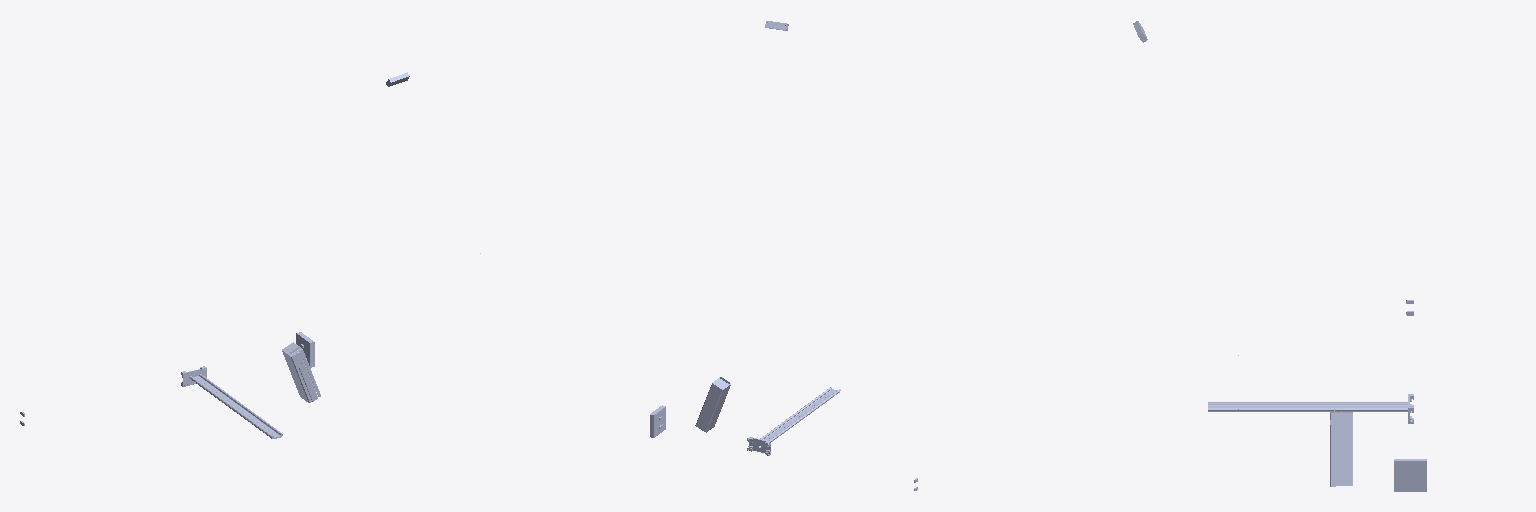
--- Facts derived from the render (not from the file) ---
3 views of the same robot in one strip: view 1: azimuth 30°, elevation 25°; view 2: azimuth 150°, elevation 25°; view 3: azimuth 270°, elevation 25° (orthographic).
Robot: robo_description — 21 links, 20 joints (2 revolute, 2 prismatic, 16 fixed); root link base_link; default pose: all joints at 0 but 1 set to mid-range because 0 is outside their limits (joint5 = 0.4665).
Visible links, largest first — view 1: link2, link5; view 2: link2, link5; view 3: link2, link5, base_link.
Link boxes in pixels (x1,y1,x2,y2): link2: (181, 366, 282, 438); link5: (282, 342, 320, 402); link2: (747, 387, 840, 455); link5: (695, 377, 730, 432); link2: (1208, 394, 1413, 423); link5: (1330, 409, 1352, 486); base_link: (1394, 300, 1426, 491).
Size in the robot's own frame: 1.65 by 0.8835 by 1.54 metres.
4 mesh visuals loaded from 6 distinct referenced files (4 binary STL); not drawn: 2 (reference not matched to a file when rendering).

URDF robot description (robo_description):
<?xml version="1.0" encoding="utf-8"?>
<!-- 25AUG2023 Changed the minimum limit of lJoint5 to 0.247 and max to 0.686 -->
<!-- This URDF was automatically created by SolidWorks to URDF Exporter! Originally created by Stephen Brawner ([email redacted]) 
     Commit Version: 1.6.0-4-g7f85cfe  Build Version: 1.6.7995.38578
     For more information, please see http://wiki.ros.org/sw_urdf_exporter -->
<robot
  name="robo_description">
  <link
    name="base_link">
    <inertial>
      <origin
        xyz="-5.13826234849775E-17 -1.63904738952765E-17 0.339473684210526"
        rpy="0 0 0" />
      <mass
        value="19" />
      <inertia
        ixx="2.34956140350877"
        ixy="1.11311423041845E-17"
        ixz="3.69215798456927E-16"
        iyy="2.34956140350877"
        iyz="-7.44985984223617E-17"
        izz="0.151666666666667" />
    </inertial>
    <visual>
      <origin
        xyz="0 0 0"
        rpy="0 0 0" />
      <geometry>
        <mesh
          filename="package://robo_description/meshes/base_link.STL" />
      </geometry>
      <material
        name="">
        <color
          rgba="0.792156862745098 0.819607843137255 0.933333333333333 1" />
      </material>
    </visual>
    <collision>
      <origin
        xyz="0 0 0"
        rpy="0 0 0" />
      <geometry>
        <mesh
          filename="package://robo_description/meshes/base_link.STL" />
      </geometry>
    </collision>
  </link>
  <link
    name="link2">
    <inertial>
      <origin
        xyz="-0.001261 -0.2858 0.14572"
        rpy="0 0 0" />
      <mass
        value="3.13280329013611" />
      <inertia
        ixx="0.0169430024052603"
        ixy="-0.00280446630124331"
        ixz="0.0223183329111622"
        iyy="0.162057682822749"
        iyz="0.000505061238040558"
        izz="0.161640952999751" />
    </inertial>
    <visual>
      <origin
        xyz="0 0 -1"
        rpy="0 0 0" />
      <geometry>
        <mesh
          filename="package://robo_description/meshes/link2.STL" />
      </geometry>
      <material
        name="">
        <color
          rgba="0.792156862745098 0.819607843137255 0.933333333333333 1" />
      </material>
    </visual>
    <collision>
      <origin
        xyz="0 0 0"
        rpy="0 0 0" />
      <geometry>
        <mesh
          filename="package://robo_description/meshes/link2.STL" />
      </geometry>
    </collision>
  </link>
  <joint
    name="joint2"
    type="prismatic">
    <origin
      xyz="0.0 0 1"
      rpy="0 0 0" />
    <parent
      link="base_link" />
    <child
      link="link2" />
    <axis
      xyz="0 0 1" />
    <limit
      lower="0"
      upper="1"
      effort="0"
      velocity="0" />
  </joint>
  <link
    name="link4">
    <inertial>
      <origin
        xyz="-0.000438554587764983 0.0620490502692163 -0.172885898172371"
        rpy="0 0 0" />
      <mass
        value="0.162146723185788" />
      <inertia
        ixx="0.00336616371871891"
        ixy="1.46811284877534E-06"
        ixz="-3.57096843523024E-06"
        iyy="0.00312866852492012"
        iyz="0.00048231220150353"
        izz="0.000338308018448651" />
    </inertial>
    <visual>
      <origin
        xyz="-0.4665 0 -0.790"
        rpy="0 0 0" />
      <geometry>
        <mesh
          filename="package://robo_description/meshes/link4.STL" />
      </geometry>
      <material
        name="">
        <color
          rgba="0.792156862745098 0.819607843137255 0.933333333333333 1" />
      </material>
    </visual>
    <collision>
      <origin
        xyz="0 0 0"
        rpy="0 0 0" />
      <geometry>
        <mesh
          filename="package://robo_description/meshes/link4.STL" />
      </geometry>
    </collision>
  </link>
  <joint
    name="joint4"
    type="revolute">
    <origin
      xyz="0.46904 0 -0.21"
      rpy="0 0 0" />
    <parent
      link="link2" />
    <child
      link="link4" />
    <axis
      xyz="0 0 1" />
    <limit
      lower="-2.9671"
      upper="2.9671"
      effort="0"
      velocity="0" />
  </joint>
  <link
    name="link3">
    <inertial>
      <origin
        xyz="-0.0832189655707039 -0.0894795892974461 -0.00179630042130147"
        rpy="0 0 0" />
      <mass
        value="1.71811977068641" />
      <inertia
        ixx="0.00948440583507882"
        ixy="-0.00159429497921182"
        ixz="0.00308193362516688"
        iyy="0.035537875179704"
        iyz="0.000648421421055908"
        izz="0.0305779645247813" />
    </inertial>
    <visual>
      <origin
        xyz="-0.468545 -0.078 -0.43528"
        rpy="0 0 0" />
      <geometry>
        <mesh
          filename="package://robo_description/meshes/link3.STL" />
      </geometry>
      <material
        name="">
        <color
          rgba="0.792156862745098 0.819607843137255 0.933333333333333 1" />
      </material>
    </visual>
    <collision>
      <origin
        xyz="0 0 0"
        rpy="0 0 0" />
      <geometry>
        <mesh
          filename="package://robo_description/meshes/link3.STL" />
      </geometry>
    </collision>
  </link>
  <joint
    name="joint3"
    type="revolute">
    <origin
      xyz="0.0 0.077824 -0.35472"
      rpy="0 0 0" />
    <parent
      link="link4" />
    <child
      link="link3" />
    <axis
      xyz="0 1 0" />
    <limit
      lower="-1.5708"
      upper="1.5708"
      effort="0"
      velocity="0" />
  </joint>
  <link
    name="yanthra_link">
    <inertial>
      <origin
        xyz="-0.0832189655707036 -0.0114795892974462 -0.00179630042130124"
        rpy="0 0 0" />
      <mass
        value="1.71811977068641" />
      <inertia
        ixx="0.00948440583507882"
        ixy="-0.00159429497921182"
        ixz="0.0030819336251669"
        iyy="0.035537875179704"
        iyz="0.000648421421055907"
        izz="0.0305779645247813" />
    </inertial>
    <visual>
      <origin
        xyz="0 0 0"
        rpy="0 0 0" />
      <geometry>
        <box size="0.001 0.001 0.001"/>
      </geometry>
      <material
        name="">
        <color
          rgba="0.792156862745098 0.819607843137255 0.933333333333333 1" />
      </material>
    </visual>
    <collision>
      <origin
        xyz="0 0 0"
        rpy="0 0 0" />
      <geometry>
        <box size="0.001 0.001 0.001"/>
      </geometry>
    </collision>
  </link>
  <joint
    name="yanthra_joint"
    type="fixed">
    <origin
      xyz="0 -0.078 0"
      rpy="0 0 0" />
    <parent
      link="link3" />
    <child
      link="yanthra_link" />
    <axis
      xyz="0 0 0" />
  </joint>
  <link
    name="link5_origin">
    <inertial>
      <origin
        xyz="-0.00874999999999998 0.0375 -0.00507843424240889"
        rpy="0 0 0" />
      <mass
        value="0.0438088883035136" />
      <inertia
        ixx="3.24913884800222E-05"
        ixy="1.33063310958086E-21"
        ixz="-8.470329472543E-22"
        iyy="3.99574478810853E-06"
        iyz="-3.38875204913906E-21"
        izz="3.07317223657389E-05" />
    </inertial>
    <visual>
      <origin
        xyz="0 0 0"
        rpy="0 0 0" />
      <geometry>
        <box size="0.001 0.001 0.001"/>
      </geometry>
      <material
        name="">
        <color
          rgba="0.792156862745098 0.819607843137255 0.933333333333333 1" />
      </material>
    </visual>
    <collision>
      <origin
        xyz="0 0 0"
        rpy="0 0 0" />
      <geometry>
        <box size="0.001 0.001 0.001"/>
      </geometry>
    </collision>
  </link>
  <joint
    name="link5_origin_joint"
    type="fixed">
    <origin
      xyz="0 0 0.0"
      rpy="0 0 0" />
    <parent	
      link="yanthra_link" />
    <child
      link="link5_origin" />
    <axis
      xyz="0 0 0" />
  </joint>
  <link
    name="link5">
    <inertial>
      <origin
        xyz="0.108132413871145 2.08242781028485E-06 0.00569147154470495"
        rpy="0 0 0" />
      <mass
        value="0.277404400359573" />
      <inertia
        ixx="0.00021628976171093"
        ixy="1.27900715148446E-06"
        ixz="-0.000135093187106687"
        iyy="0.00359200319167061"
        iyz="-8.36237914028336E-08"
        izz="0.00358633509004247" />
    </inertial>
    <visual>
      <origin
        xyz="-0.715545 0 -0.43528"
        rpy="0 0 0" />
      <geometry>
        <mesh
          filename="package://robo_description/meshes/link5.STL" />
      </geometry>
      <material
        name="">
        <color
          rgba="0.792156862745098 0.819607843137255 0.933333333333333 1" />
      </material>
    </visual>
    <collision>
      <origin
        xyz="0 0 0"
        rpy="0 0 0" />
      <geometry>
        <mesh
          filename="package://robo_description/meshes/link5.STL" />
      </geometry>
    </collision>
  </link>
  <joint
    name="joint5"
    type="prismatic">
    <origin
      xyz="0.0 0 0"
      rpy="0 0 0" />
    <parent
      link="link5_origin" />
    <child
      link="link5" />
    <axis
      xyz="1 0 0" />
    <limit
      lower="0.247"
      upper="0.686"
      effort="0"
      velocity="0" />
  </joint>
  <link
    name="ee_link">
    <inertial>
      <origin
        xyz="-0.00874999999999998 0.0375 -0.00507843424240889"
        rpy="0 0 0" />
      <mass
        value="0.0438088883035136" />
      <inertia
        ixx="3.24913884800222E-05"
        ixy="1.33063310958086E-21"
        ixz="-8.470329472543E-22"
        iyy="3.99574478810853E-06"
        iyz="-3.38875204913906E-21"
        izz="3.07317223657389E-05" />
    </inertial>
    <visual>
      <origin
        xyz="0 0 0"
        rpy="0 0 0" />
      <geometry>
        <box size="0.001 0.001 0.001"/>
      </geometry>
      <material
        name="">
        <color
          rgba="0.792156862745098 0.819607843137255 0.933333333333333 1" />
      </material>
    </visual>
    <collision>
      <origin
        xyz="0 0 0"
        rpy="0 0 0" />
      <geometry>
        <box size="0.001 0.001 0.001"/>
      </geometry>
    </collision>
  </link>
  <joint
    name="ee_joint"
    type="fixed">
    <origin
      xyz="-0.085 0 0"
      rpy="0 0 0" />
    <parent	
      link="link5" />
    <child
      link="ee_link" />
    <axis
      xyz="0 0 0" />
  </joint>
  <link
    name="aruco_marker_link">
    <inertial>
      <origin
        xyz="-0.00874999999999998 0.0375 -0.00507843424240889"
        rpy="0 0 0" />
      <mass
        value="0.0438088883035136" />
      <inertia
        ixx="3.24913884800222E-05"
        ixy="1.33063310958086E-21"
        ixz="-8.470329472543E-22"
        iyy="3.99574478810853E-06"
        iyz="-3.38875204913906E-21"
        izz="3.07317223657389E-05" />
    </inertial>
    <visual>
      <origin
        xyz="0 0 0"
        rpy="0 0 0" />
      <geometry>
        <box size="0.001 0.001 0.001"/>
      </geometry>
      <material
        name="">
        <color
          rgba="0.792156862745098 0.819607843137255 0.933333333333333 1" />
      </material>
    </visual>
    <collision>
      <origin
        xyz="0 0 0"
        rpy="0 0 0" />
      <geometry>
        <box size="0.001 0.001 0.001"/>
      </geometry>
    </collision>
  </link>
  <joint
    name="aruco_joint"
    type="fixed">
    <origin
      xyz="0.0 0 0.08"
      rpy="0 0 0" />
    <parent	
      link="ee_link" />
    <child
      link="aruco_marker_link" />
    <axis
      xyz="0 0 0" />
  </joint>
  <link
    name="aruco_link_1">
    <inertial>
      <origin
        xyz="-0.00874999999999998 0.0375 -0.00507843424240889"
        rpy="0 0 0" />
      <mass
        value="0.0438088883035136" />
      <inertia
        ixx="3.24913884800222E-05"
        ixy="1.33063310958086E-21"
        ixz="-8.470329472543E-22"
        iyy="3.99574478810853E-06"
        iyz="-3.38875204913906E-21"
        izz="3.07317223657389E-05" />
    </inertial>
    <visual>
      <origin
        xyz="0 0 0"
        rpy="0 0 0" />
      <geometry>
        <box size="0.001 0.001 0.001"/>
      </geometry>
      <material
        name="">
        <color
          rgba="0.792156862745098 0.819607843137255 0.933333333333333 1" />
      </material>
    </visual>
    <collision>
      <origin
        xyz="0 0 0"
        rpy="0 0 0" />
      <geometry>
        <box size="0.001 0.001 0.001"/>
      </geometry>
    </collision>
  </link>
  <joint
    name="aruco_joint_1"
    type="fixed">
    <origin
      xyz="0.0 0.04 0.04"
      rpy="0 0 0" />
    <parent	
      link="aruco_marker_link" />
    <child
      link="aruco_link_1" />
    <axis
      xyz="0 0 0" />
  </joint>
  <link
    name="aruco_link_2">
    <inertial>
      <origin
        xyz="-0.00874999999999998 0.0375 -0.00507843424240889"
        rpy="0 0 0" />
      <mass
        value="0.0438088883035136" />
      <inertia
        ixx="3.24913884800222E-05"
        ixy="1.33063310958086E-21"
        ixz="-8.470329472543E-22"
        iyy="3.99574478810853E-06"
        iyz="-3.38875204913906E-21"
        izz="3.07317223657389E-05" />
    </inertial>
    <visual>
      <origin
        xyz="0 0 0"
        rpy="0 0 0" />
      <geometry>
        <box size="0.001 0.001 0.001"/>
      </geometry>
      <material
        name="">
        <color
          rgba="0.792156862745098 0.819607843137255 0.933333333333333 1" />
      </material>
    </visual>
    <collision>
      <origin
        xyz="0 0 0"
        rpy="0 0 0" />
      <geometry>
        <box size="0.001 0.001 0.001"/>
      </geometry>
    </collision>
  </link>
  <joint
    name="aruco_joint_2"
    type="fixed">
    <origin
      xyz="0.0 -0.04 0.04"
      rpy="0 0 0" />
    <parent	
      link="aruco_marker_link" />
    <child
      link="aruco_link_2" />
    <axis
      xyz="0 0 0" />
  </joint>
  <link
    name="aruco_link_3">
    <inertial>
      <origin
        xyz="-0.00874999999999998 0.0375 -0.00507843424240889"
        rpy="0 0 0" />
      <mass
        value="0.0438088883035136" />
      <inertia
        ixx="3.24913884800222E-05"
        ixy="1.33063310958086E-21"
        ixz="-8.470329472543E-22"
        iyy="3.99574478810853E-06"
        iyz="-3.38875204913906E-21"
        izz="3.07317223657389E-05" />
    </inertial>
    <visual>
      <origin
        xyz="0 0 0"
        rpy="0 0 0" />
      <geometry>
        <box size="0.001 0.001 0.001"/>
      </geometry>
      <material
        name="">
        <color
          rgba="0.792156862745098 0.819607843137255 0.933333333333333 1" />
      </material>
    </visual>
    <collision>
      <origin
        xyz="0 0 0"
        rpy="0 0 0" />
      <geometry>
        <box size="0.001 0.001 0.001"/>
      </geometry>
    </collision>
  </link>
  <joint
    name="aruco_joint_3"
    type="fixed">
    <origin
      xyz="0.0 0.04 -0.04"
      rpy="0 0 0" />
    <parent	
      link="aruco_marker_link" />
    <child
      link="aruco_link_3" />
    <axis
      xyz="0 0 0" />
  </joint>
  <link
    name="aruco_link_4">
    <inertial>
      <origin
        xyz="-0.00874999999999998 0.0375 -0.00507843424240889"
        rpy="0 0 0" />
      <mass
        value="0.0438088883035136" />
      <inertia
        ixx="3.24913884800222E-05"
        ixy="1.33063310958086E-21"
        ixz="-8.470329472543E-22"
        iyy="3.99574478810853E-06"
        iyz="-3.38875204913906E-21"
        izz="3.07317223657389E-05" />
    </inertial>
    <visual>
      <origin
        xyz="0 0 0"
        rpy="0 0 0" />
      <geometry>
        <box size="0.001 0.001 0.001"/>
      </geometry>
      <material
        name="">
        <color
          rgba="0.792156862745098 0.819607843137255 0.933333333333333 1" />
      </material>
    </visual>
    <collision>
      <origin
        xyz="0 0 0"
        rpy="0 0 0" />
      <geometry>
        <box size="0.001 0.001 0.001"/>
      </geometry>
    </collision>
  </link>
  <joint
    name="aruco_joint_4"
    type="fixed">
    <origin
      xyz="0.0 -0.04 -0.04"
      rpy="0 0 0" />
    <parent	
      link="aruco_marker_link" />
    <child
      link="aruco_link_4" />
    <axis
      xyz="0 0 0" />
  </joint>
  <link
    name="link7">
    <inertial>
      <origin
        xyz="-0.00129487747822488 -0.0114795892973884 0.11996423535158"
        rpy="0 0 0" />
      <mass
        value="1.71811977068641" />
      <inertia
        ixx="0.0113386071435481"
        ixy="-0.00171490439294498"
        ixz="-0.00672100859249017"
        iyy="0.0355378751797041"
        iyz="-0.0001460470577602"
        izz="0.0287237632163119" />
    </inertial>
    <visual>
      <origin
        xyz="0 0 0"
        rpy="0 0 0" />
      <geometry>
        <box size="0.001 0.001 0.001"/>
      </geometry>
      <material
        name="">
        <color
          rgba="0.792156862745098 0.819607843137255 0.933333333333333 1" />
      </material>
    </visual>
    <collision>
      <origin
        xyz="0 0 0"
        rpy="0 0 0" />
      <geometry>
        <box size="0.001 0.001 0.001"/>
      </geometry>
    </collision>
  </link>
  <joint
    name="joint7"
    type="fixed">
    <origin
      xyz="0.46679 -0.08449 0.88441"
      rpy="0 0.959931 -1.5708" />
    <parent
      link="base_link"/>
    <child
      link="link7"/>
    <axis
      xyz="0 0 0" />
  </joint>
  <link
    name="camera_mount_link">
    <inertial>
      <origin
        xyz="-0.00129487747822488 -0.0114795892973883 0.11996423535158"
        rpy="0 0 0" />
      <mass
        value="1.71811977068641" />
      <inertia
        ixx="0.0113386071435481"
        ixy="-0.00171490439294498"
        ixz="-0.00672100859249018"
        iyy="0.0355378751797041"
        iyz="-0.000146047057760202"
        izz="0.0287237632163119" />
    </inertial>
    <visual>
      <origin
        xyz="0 0 0"
        rpy="0 0 0" />
      <geometry>
        <box size="0.001 0.001 0.001"/>
      </geometry>
      <material
        name="">
        <color
          rgba="0.792156862745098 0.819607843137255 0.933333333333333 1" />
      </material>
    </visual>
    <collision>
      <origin
        xyz="0 0 0"
        rpy="0 0 0" />
      <geometry>
        <box size="0.001 0.001 0.001"/>
      </geometry>
    </collision>
  </link>
     <!--Realsense Camera depth is 20 mm from back to glass, But the depth start point(GROUND ZERO REFERENCE i.e depth is Zero) is 1.1 mm behind glass-->
     <!--Camera thickness-Zero Ref +Plate thick=20-1.1+2 = 20.09 mm -->
     <!-- xyz="0.0209 -0.0375 0"-->
  <joint
    name="camera_mount_joint"
    type="fixed">
    <origin
      xyz="0.02090 -0.0375 0"
      rpy="-1.5708 0 -1.5708" />
    <parent
      link="link7" />
    <child
      link="camera_mount_link" />
    <axis
      xyz="0 0 0" />
  </joint>
  <link
    name="virtual_cam_link">
    <inertial>
      <origin
        xyz="-0.00874999999999998 0.0375 -0.00507843424240889"
        rpy="0 0 0" />
      <mass
        value="0.0438088883035136" />
      <inertia
        ixx="3.24913884800222E-05"
        ixy="1.33063310958086E-21"
        ixz="-8.470329472543E-22"
        iyy="3.99574478810853E-06"
        iyz="-3.38875204913906E-21"
        izz="3.07317223657389E-05" />
    </inertial>
    <visual>
      <origin
        xyz="0 0 0"
        rpy="0 0 0" />
      <geometry>
        <box size="0.001 0.001 0.001"/>
      </geometry>
      <material
        name="">
        <color
          rgba="0.792156862745098 0.819607843137255 0.933333333333333 1" />
      </material>
    </visual>
    <collision>
      <origin
        xyz="0 0 0"
        rpy="0 0 0" />
      <geometry>
        <box size="0.001 0.001 0.001"/>
      </geometry>
    </collision>
  </link>
  <joint
    name="virtual_cam_link_joint"
    type="fixed">
    <origin
      xyz="0 0 0"
      rpy="0 0 0" />
    <parent	
      link="camera_mount_link" />
    <child
      link="virtual_cam_link" />
    <axis
      xyz="0 0 0" />
  </joint>

  <link
    name="camera_link">
    <inertial>
      <origin
        xyz="-0.00874999999999998 0.0375 -0.00507843424240889"
        rpy="0 0 0" />
      <mass
        value="0.0438088883035136" />
      <inertia
        ixx="3.24913884800222E-05"
        ixy="1.33063310958086E-21"
        ixz="-8.470329472543E-22"
        iyy="3.99574478810853E-06"
        iyz="-3.38875204913906E-21"
        izz="3.07317223657389E-05" />
    </inertial>
    <visual>
      <origin
        xyz="-0.03768 -0.425 -0.175"
        rpy="0 -2.04 -1.5708" />
      <geometry>
        <mesh
          filename="package://robo_description/meshes/camera_link.STL" />
      </geometry>
      <material
        name="">
        <color
          rgba="0.792156862745098 0.819607843137255 0.933333333333333 1" />
      </material>
    </visual>
    <collision>
      <origin
        xyz="0 0 0"
        rpy="0 0 0" />
      <geometry>
        <mesh
          filename="package://robo_description/meshes/camera_link.STL" />
      </geometry>
    </collision>
  </link>
  <joint
    name="camera_link_joint"
    type="fixed">
    <origin
      xyz="-0.0396964 0.0136758 -0.0198771"
      rpy="0.0771188 -0.0934228 -0.149944" />
    <parent
      link="virtual_cam_link" />
    <child
      link="camera_link" />
    <axis
      xyz="0 0 0" />
  </joint>

  <link name="camera_depth_frame">

    <visual>

    <origin xyz="0 0 0" rpy="0 0 0" />

      <geometry>

        <box size="0.001 0.001 0.001"/>

      </geometry>

    </visual>

  </link>

  <joint name="camera_depth_frame_joint" type="fixed">

    <origin rpy="0 0 0" xyz="0 0 0"/>

    <parent link="camera_link"/>

    <child link="camera_depth_frame"/>

  </joint>

  <link name="camera_depth_optical_frame">

    <visual>

    <origin xyz="0 0 0" rpy="0 0 0" />

      <geometry>

        <box size="0.001 0.001 0.001"/>

      </geometry>

    </visual>

  </link>

  <joint name="camera_depth_optical_frame_joint" type="fixed">

   <origin rpy="0 0 0" xyz="0 0 0"/>

   <parent link="camera_depth_frame"/>

   <child link="camera_depth_optical_frame"/>

  </joint>

  <link name="camera_color_frame">

    <visual>

    <origin xyz="0 0 0" rpy="0 0 0" />

      <geometry>

        <box size="0.001 0.001 0.001"/>

      </geometry>

    </visual>

  </link>

  <joint name="camera_color_frame_joint" type="fixed">

    <origin rpy="0 0 0" xyz="0 0 0"/>

    <parent link="camera_link"/>

    <child link="camera_color_frame"/>

  </joint>

  <link name="camera_color_optical_frame">

    <visual>

    <origin xyz="0 0 0" rpy="0 0 0" />

      <geometry>

        <box size="0.001 0.001 0.001"/>

      </geometry>

    </visual>

  </link>

  <joint name="camera_color_optical_frame_joint" type="fixed">

   <origin rpy="0 0 0" xyz="0 0 0"/>

   <parent link="camera_color_frame"/>

   <child link="camera_color_optical_frame"/>

  </joint>
  <gazebo reference="stand">

    <material>Gazebo/Grey</material>

  </gazebo>

  <gazebo reference="link3">

    <material>Gazebo/Green</material>

  </gazebo>

  <gazebo reference="link4">

    <material>Gazebo/Red</material>

  </gazebo>

  <gazebo reference="link5">

    <material>Gazebo/Green</material>

  </gazebo>

  <gazebo reference="link9">

    <material>Gazebo/Red</material>

  </gazebo>

  <gazebo reference="link6">

    <material>Gazebo/White</material>

  </gazebo>

  <transmission name="tran1">

    <type>transmission_interface/SimpleTransmission</type>

    <joint name="joint3">

      <hardwareInterface>hardware_interface/PositionJointInterface</hardwareInterface>

    </joint>

    <actuator name="motor1">

      <hardwareInterface>hardware_interface/PositionJointInterface</hardwareInterface>

      <mechanicalReduction>1</mechanicalReduction>

    </actuator>

  </transmission>

  <transmission name="tran1">

    <type>transmission_interface/SimpleTransmission</type>

    <joint name="joint4">

      <hardwareInterface>hardware_interface/PositionJointInterface</hardwareInterface>

    </joint>

    <actuator name="motor1">

      <hardwareInterface>hardware_interface/PositionJointInterface</hardwareInterface>

      <mechanicalReduction>1</mechanicalReduction>

    </actuator>

  </transmission>

  <transmission name="tran1">

    <type>transmission_interface/SimpleTransmission</type>

    <joint name="joint5">

      <hardwareInterface>hardware_interface/PositionJointInterface</hardwareInterface>

    </joint>

    <actuator name="motor1">

      <hardwareInterface>hardware_interface/PositionJointInterface</hardwareInterface>

      <mechanicalReduction>1</mechanicalReduction>

    </actuator>

  </transmission>

  <gazebo>

    <plugin filename="libgazebo_ros_control.so" name="gazebo_ros_control">

      <robotNameSpace>/arm_controller</robotNameSpace>

    </plugin>

  </gazebo>

</robot>
